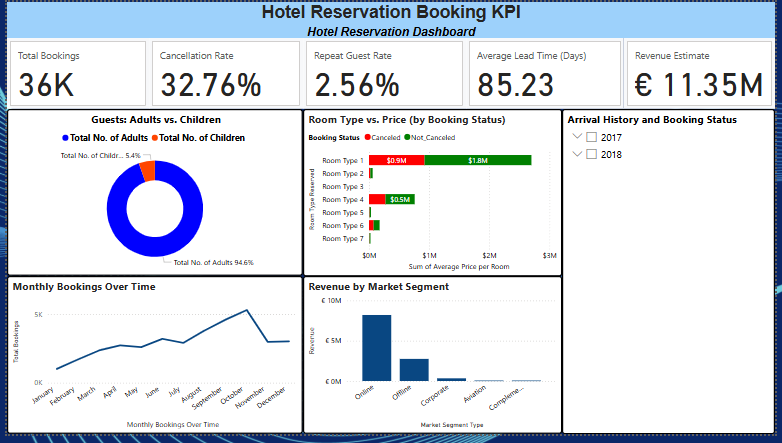

What the dashboard file says about the page in this screenshot:
{"tool":"powerbi","page":{"name":"Hotel Booking KPI DashBoard","canvas":[1280,720],"ordinal":0},"visuals":[{"type":"cardVisual","fields":{"Data":["raw.Total Bookings"]},"box":[0,60,236.7,118.3],"z":0},{"type":"cardVisual","fields":{"Data":["raw.Cancellation Rate"]},"box":[236.7,60,256.7,118.3],"z":1000},{"type":"cardVisual","fields":{"Data":["raw.Repeat Guest Rate"]},"box":[493.3,60,271.7,118.3],"z":2000},{"type":"cardVisual","fields":{"Data":["raw.Revenue Estimate"]},"box":[1028.3,60,251.7,118.3],"z":3000},{"type":"textbox","title":"Hotel Reservation Booking KPI","box":[0,0,1280,60],"z":4000},{"type":"cardVisual","fields":{"Data":["raw.Average Lead Time"]},"box":[765,60,263.3,118.3],"z":5000},{"type":"barChart","title":"Room Type vs. Price (by Booking Status)","fields":{"Y":["Count(raw.Room Type Reserved)","Sum(raw.Average Price per Room)"],"Category":["raw.Room Type Reserved"],"Series":["raw.Booking Status"]},"box":[493,178,432,279],"z":6000},{"type":"lineChart","title":"Monthly Bookings Over Time","fields":{"Y":["select","raw.Total Bookings"],"Category":["raw.Arrival Month"]},"box":[0,457,493,263],"z":7000},{"type":"donutChart","title":"Guests: Adults vs. Children","fields":{"Y":["Sum(raw.No of Adults)","Sum(raw.No of Children)"]},"box":[0,179,493,278],"z":8000},{"type":"clusteredColumnChart","title":"Revenue by Market Segment","fields":{"Category":["raw.Market Segment Type"],"Y":["raw.Revenue Estimate"]},"box":[493,457,432,263],"z":10000},{"type":"slicer","title":"Arrival History and Booking Status","fields":{"Values":["raw.Arrival Year","raw.Arrival Month","raw.Room Type Reserved","raw.Booking Status"]},"box":[925,178.3,355,541.7],"z":11000}]}

Visuals, with their boxes in screenshot pixels (x1, y1, x2, y2), scaled from the page's 1280x720 canvas onto the 782x443 screenshot:
cardVisual - raw.Total Bookings: 0, 37, 145, 110
cardVisual - raw.Cancellation Rate: 145, 37, 301, 110
cardVisual - raw.Repeat Guest Rate: 301, 37, 467, 110
cardVisual - raw.Revenue Estimate: 628, 37, 781, 110
"Hotel Reservation Booking KPI" textbox: 0, 0, 781, 37
cardVisual - raw.Average Lead Time: 467, 37, 628, 110
"Room Type vs. Price (by Booking Status)" barChart: 301, 110, 565, 281
"Monthly Bookings Over Time" lineChart: 0, 281, 301, 442
"Guests: Adults vs. Children" donutChart: 0, 110, 301, 281
"Revenue by Market Segment" clusteredColumnChart: 301, 281, 565, 442
"Arrival History and Booking Status" slicer: 565, 110, 781, 442
